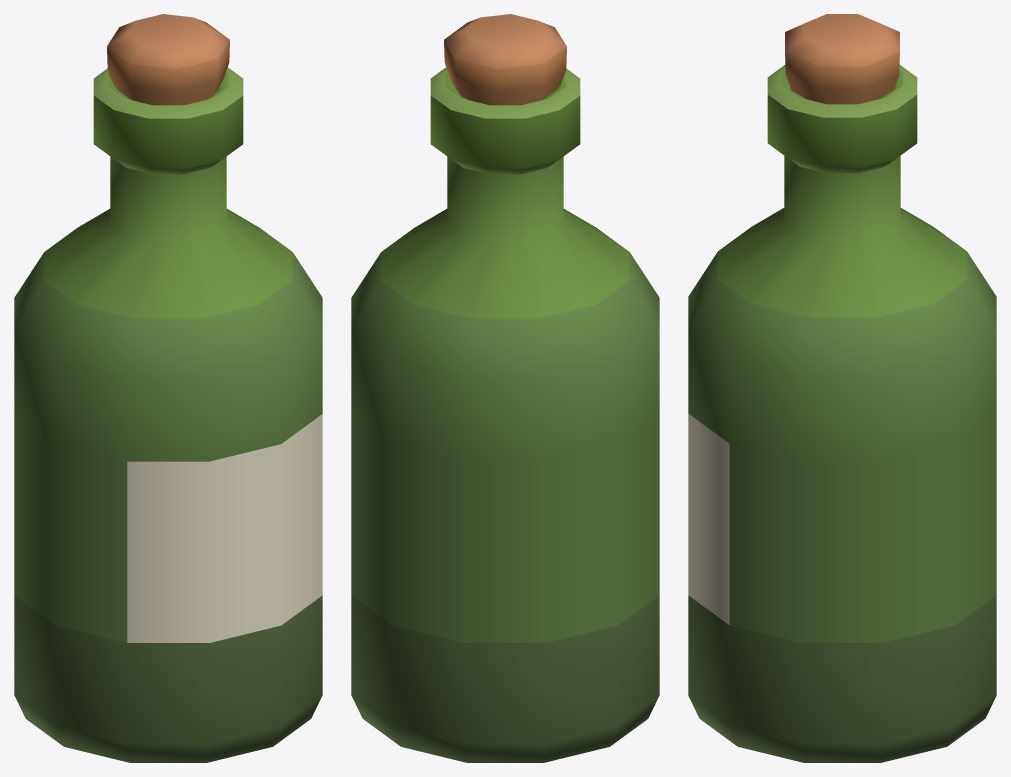
File: itch_tiny_pleasant_picnic_wine_bottle.glb
3 views of the same model, side by side, from view 1: azimuth 30°, elevation 25°; view 2: azimuth 150°, elevation 25°; view 3: azimuth 270°, elevation 25° (orthographic).
Visible parts, largest first — view 1: wine_bottle, wine_bottle_cork; view 2: wine_bottle, wine_bottle_cork; view 3: wine_bottle, wine_bottle_cork.
Part boxes in pixels (box(x1,y1,x2,y2)): wine_bottle: box(14, 67, 322, 762); wine_bottle_cork: box(107, 14, 229, 105); wine_bottle: box(351, 67, 659, 762); wine_bottle_cork: box(444, 14, 566, 105); wine_bottle: box(688, 65, 996, 762); wine_bottle_cork: box(785, 14, 899, 104).
Size of the model in its own units: 0.7577 by 1.85 by 0.7577.
